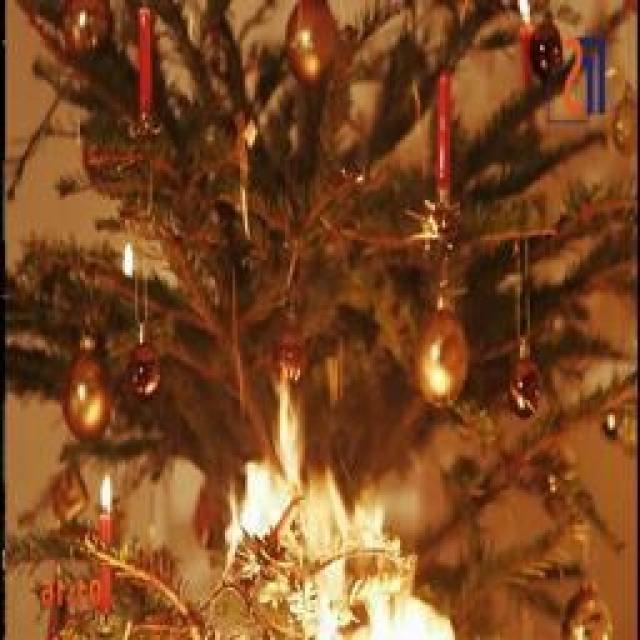fire: (220, 432, 468, 640)
